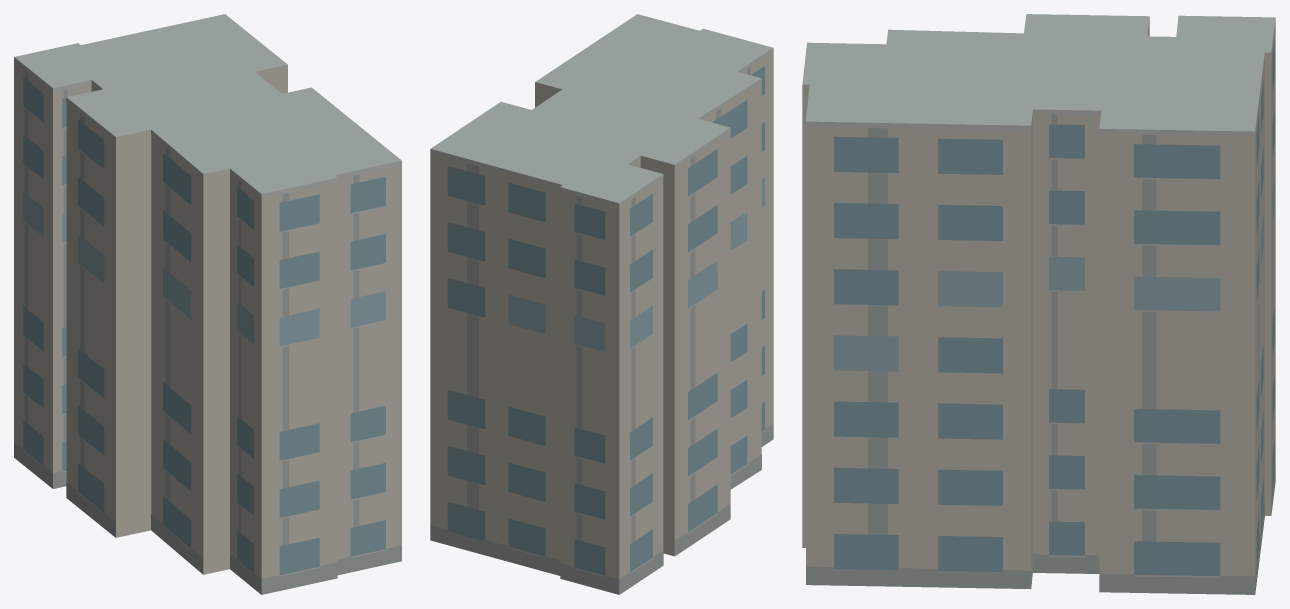
Rendered from survey-upis-33046052.glb.
3 renders of one model, left to right at view 1: azimuth 30°, elevation 25°; view 2: azimuth 150°, elevation 25°; view 3: azimuth 270°, elevation 25°, orthographic. The views are drawn at different scales.
Parts seen in each view (by area): view 1: survey-upis-33046052.tmp; view 2: survey-upis-33046052.tmp; view 3: survey-upis-33046052.tmp.
Part boxes in pixels (box(x1,y1,x2,y2)): survey-upis-33046052.tmp: box(14, 14, 401, 594); survey-upis-33046052.tmp: box(430, 14, 773, 594); survey-upis-33046052.tmp: box(802, 14, 1275, 594).
Size of the model in its own units: 11.62 by 21.35 by 19.77.
